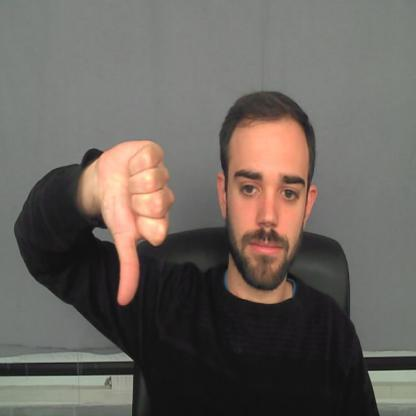thumbs-down: (93, 135, 177, 313)
